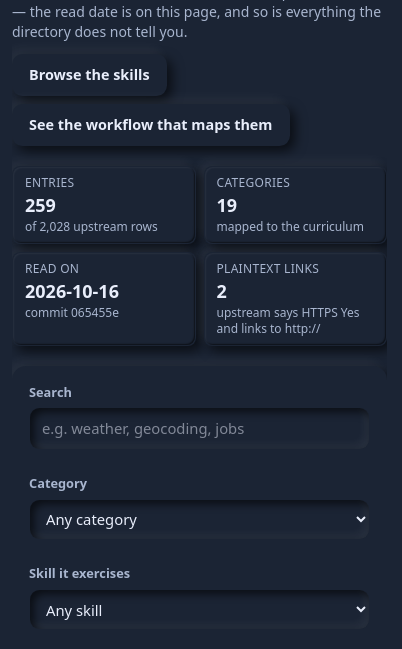
it: the public-API catalogue page › answers an impossible filter with an empty state, not an error or a fallback to everything
In the field labelled "Search": (200, 429) [29, 408, 370, 450], type "zzzz-no-such-api"
(page scrolled)
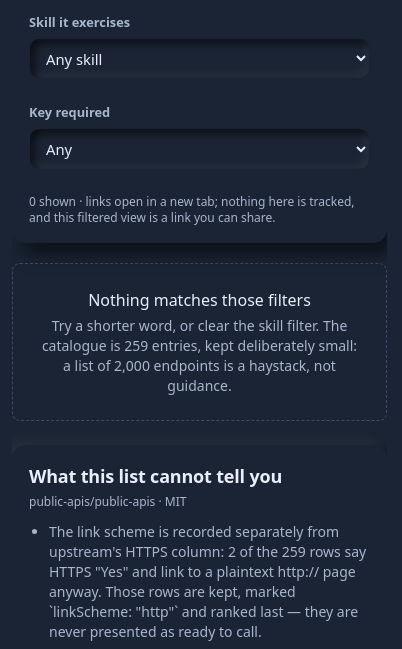
Expected: the text "Nothing matches those filters" is shown, [88, 289, 311, 311]
